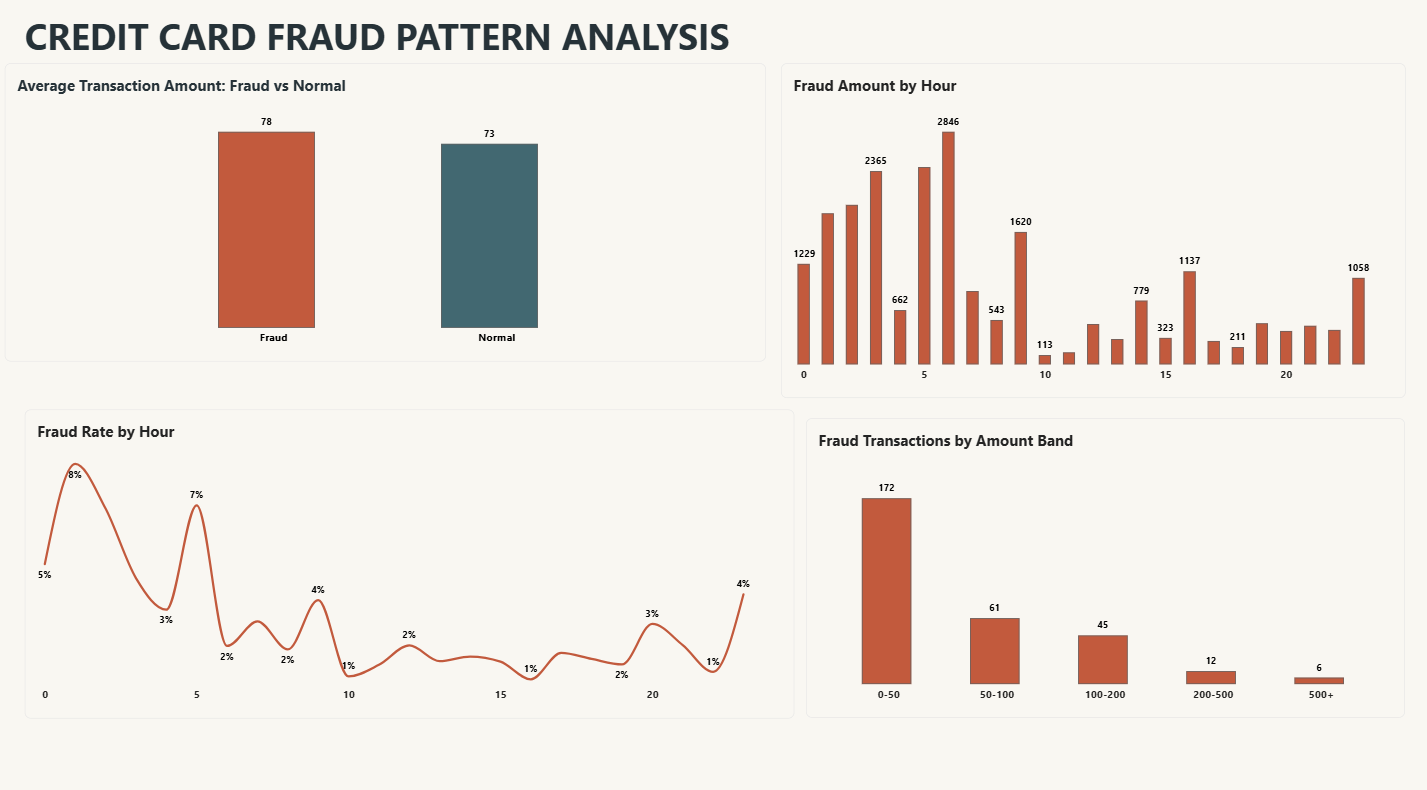

This screenshot's page, from the dashboard's own definition file:
{"tool":"powerbi","page":{"name":"Fraud Pattern Analysis","canvas":[1920,1080],"ordinal":1},"visuals":[{"type":"columnChart","fields":{"Y":["credit_card_fraud_cleaned.Fraud Amount"],"Category":["credit_card_fraud_cleaned.Hour"]},"box":[1047.8,95.9,834.3,447],"z":0},{"type":"columnChart","title":"Average Transaction Amount: Fraud vs Normal","fields":{"Category":["credit_card_fraud_cleaned.Fraud Status"],"Y":["credit_card_fraud_cleaned.Average Transaction Amount"]},"box":[10.9,95.9,1017,398.1],"z":1000},{"type":"lineChart","title":"Fraud Rate by Hour","fields":{"Y":["credit_card_fraud_cleaned.Fraud Rate by Hour"],"Category":["credit_card_fraud_cleaned.Hour"]},"box":[38,557.4,1027.9,412.6],"z":2000},{"type":"clusteredColumnChart","title":"Fraud Transactions by Amount Band","fields":{"Category":["credit_card_fraud_cleaned.Amount Band"],"Y":["credit_card_fraud_cleaned.Fraud Transactions"]},"box":[1082.2,570,799.9,399.9],"z":3000},{"type":"textbox","box":[38,25.3,962.7,70.6],"z":4000}]}

Visuals, with their boxes in screenshot pixels (x1, y1, x2, y2), scaled from the page's 1920x1080 canvas onto the 1427x790 screenshot:
columnChart - credit_card_fraud_cleaned.Fraud Amount x credit_card_fraud_cleaned.Hour: Rect(779, 70, 1399, 397)
"Average Transaction Amount: Fraud vs Normal" columnChart: Rect(8, 70, 764, 361)
"Fraud Rate by Hour" lineChart: Rect(28, 408, 792, 710)
"Fraud Transactions by Amount Band" clusteredColumnChart: Rect(804, 417, 1399, 709)
textbox: Rect(28, 19, 744, 70)
